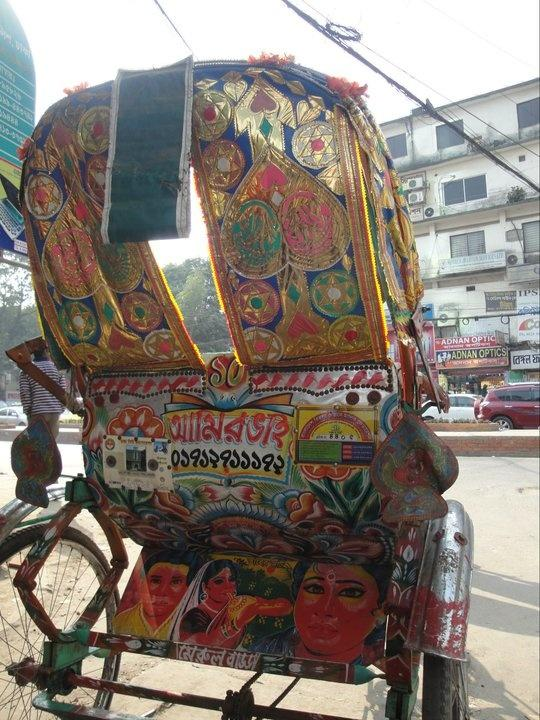Rickshaw: (0, 56, 472, 719)
